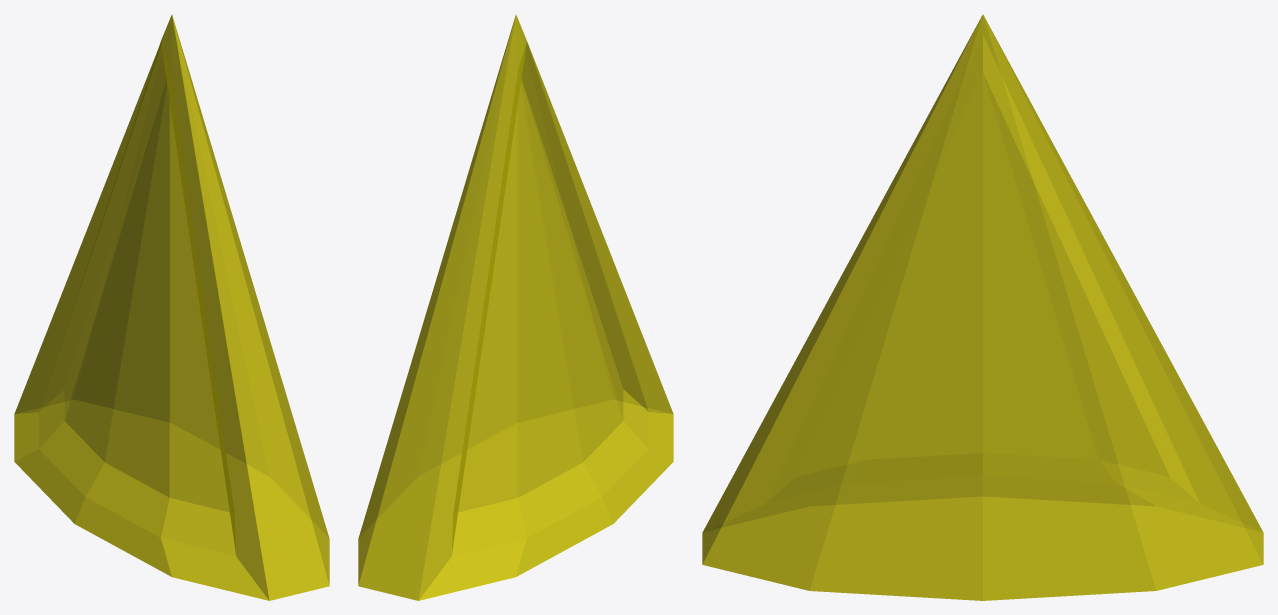
The model's file is Hazard sign.fbx.
3 renders of one model, left to right at view 1: azimuth 30°, elevation 25°; view 2: azimuth 150°, elevation 25°; view 3: azimuth 270°, elevation 25°, orthographic. The views are drawn at different scales.
Visible parts, largest first — view 1: polySurface4265; view 2: polySurface4265; view 3: polySurface4265.
Boxes of the visible parts, x1,y1,x2,y2 form: polySurface4265: [14, 14, 329, 600]; polySurface4265: [358, 14, 673, 600]; polySurface4265: [702, 14, 1263, 600].
Bounding box in the file's own units: 1.43 × 3.41 × 3.24.
